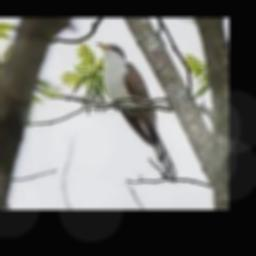Cuckoo: (94, 42, 175, 178)
